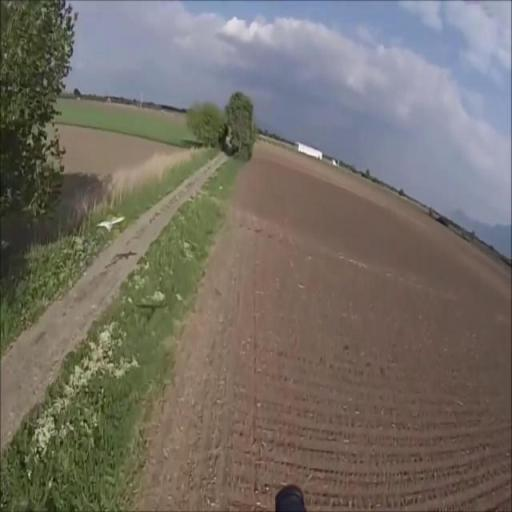uav: (96, 212, 124, 230)
